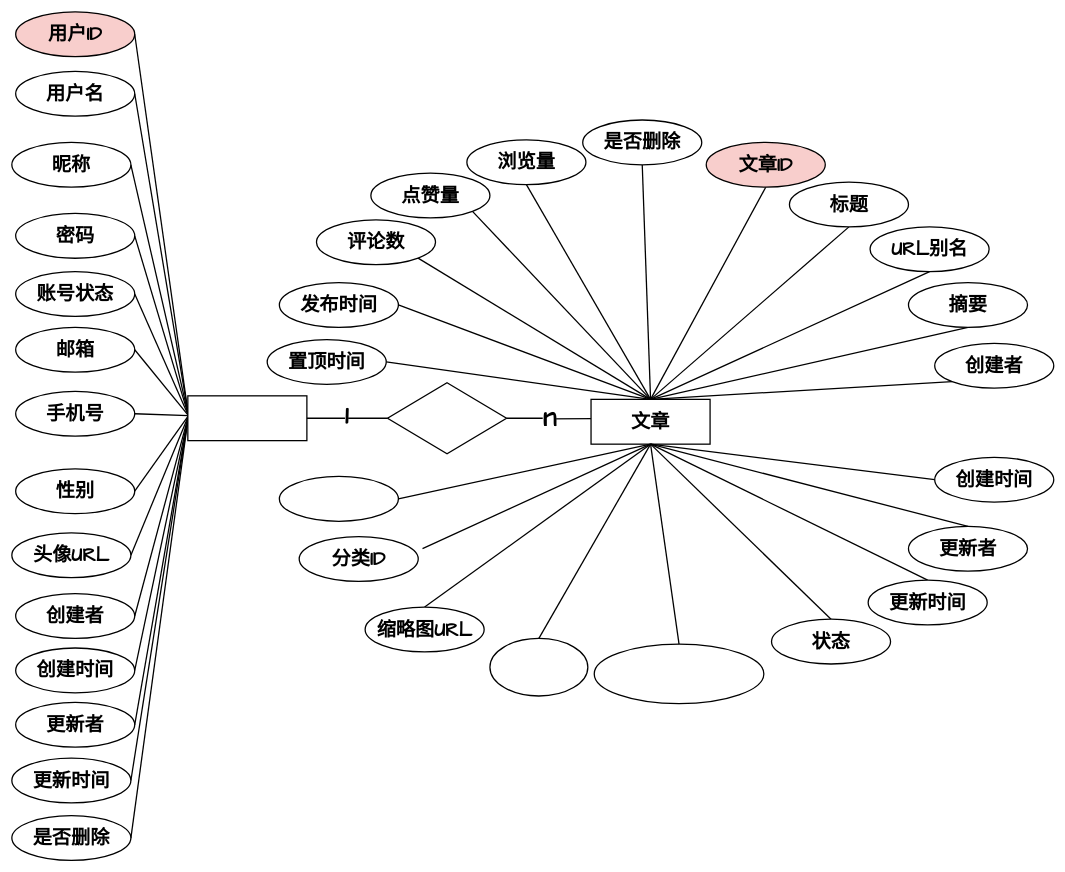
This 1065x872 diagram has some shape labels left out. Each missing label, with the box of its shape:
发表: (387, 382, 507, 454)
是否允许评论: (593, 643, 764, 704)
是否置顶: (489, 637, 588, 696)
正文内容: (278, 476, 399, 522)
用户: (187, 395, 307, 441)
